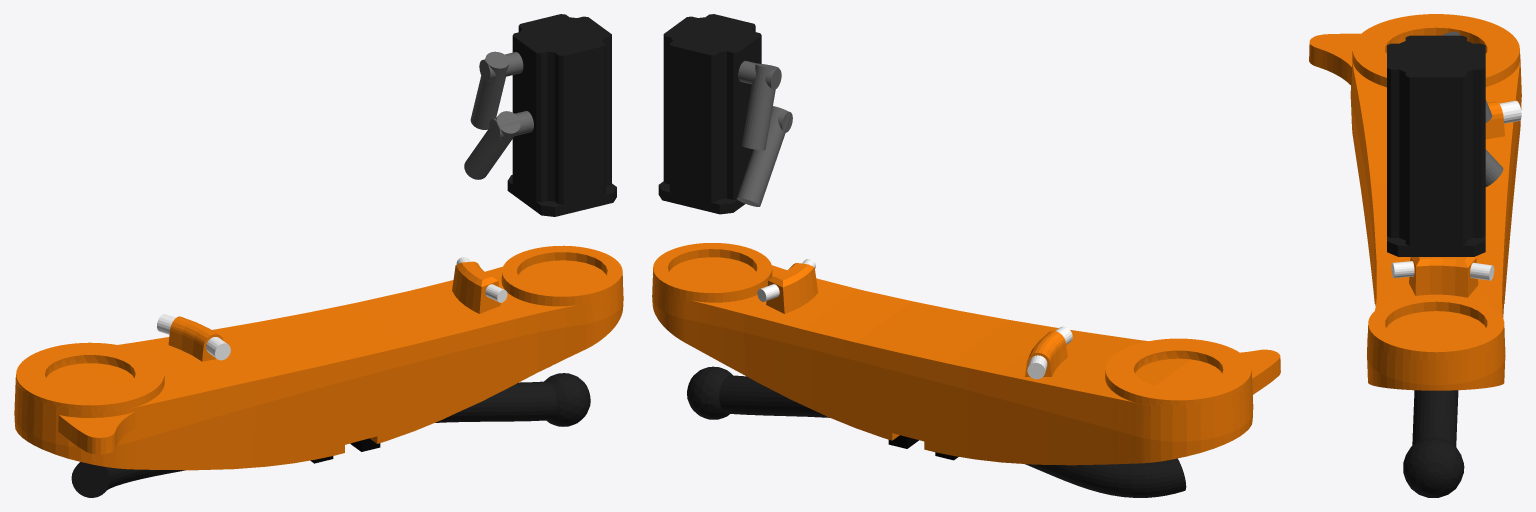
The picture shows the model from 3 angles, left to right: view 1: azimuth 30°, elevation 25°; view 2: azimuth 150°, elevation 25°; view 3: azimuth 270°, elevation 25°; orthographic projection. The views are drawn at different scales.
Visible parts, largest first — view 1: node2, node0, node3, node4, node1; view 2: node2, node0, node3, node4, node1; view 3: node2, node0, node3, node1, node4.
Part boxes in pixels (x1,y1,x2,y2): node2: (14,245,623,470); node0: (507,14,616,216); node3: (71,373,590,497); node4: (464,51,533,179); node1: (157,257,507,360); node2: (652,243,1280,465); node0: (658,14,761,214); node3: (687,366,1186,497); node4: (736,61,792,206); node1: (757,259,1072,379); node2: (1309,14,1521,390); node0: (1387,35,1485,256); node3: (1403,390,1464,497); node1: (1391,100,1521,280); node4: (1441,32,1503,186).
Size of the model in its own units: 0.7509 by 0.2075 by 0.4723.
